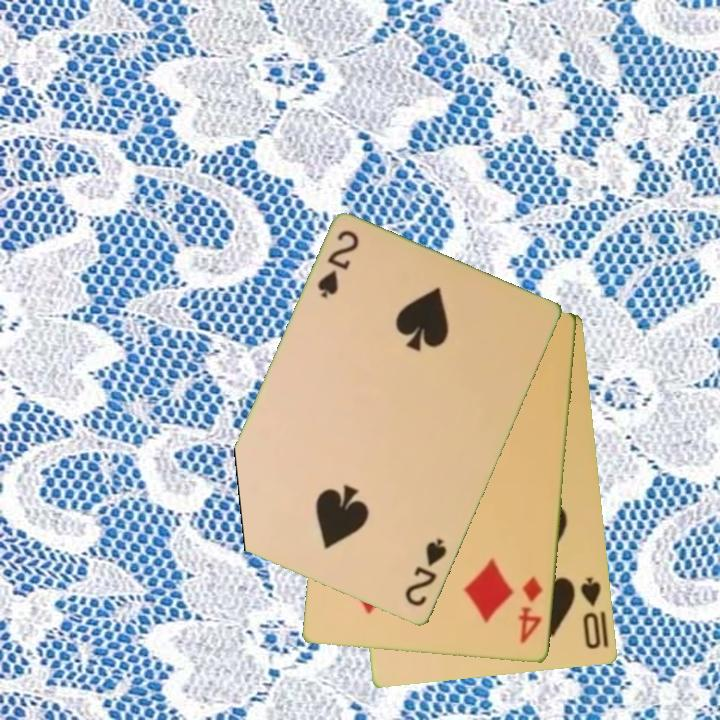10s: (577, 574, 605, 653)
2s: (401, 535, 450, 611), (314, 227, 363, 302)
4d: (515, 573, 546, 647)
